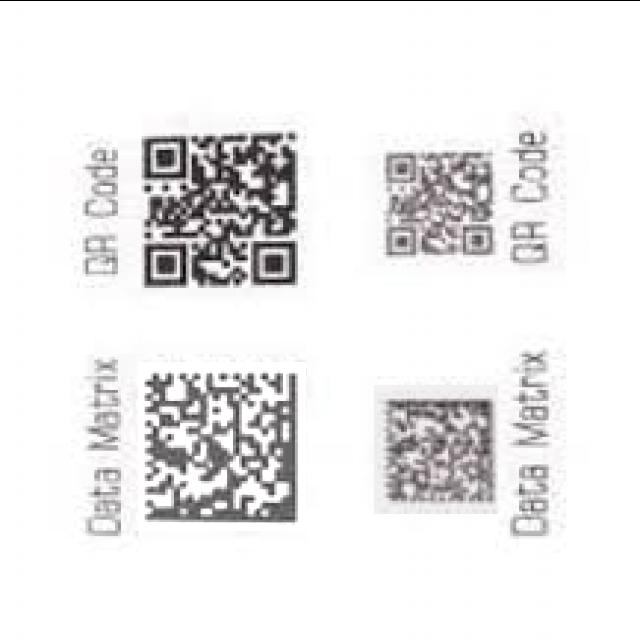DataMatrix: (138, 361, 306, 530), (374, 384, 498, 513)
